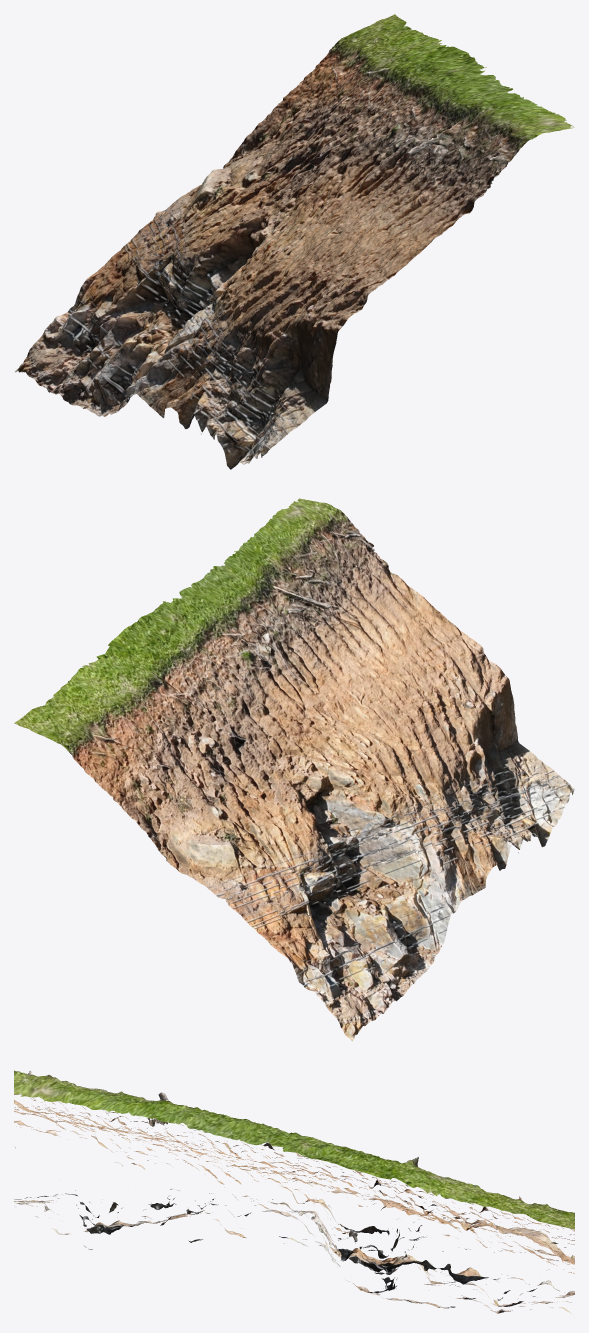
3 renders of one model, top to bottom at view 1: azimuth 30°, elevation 25°; view 2: azimuth 150°, elevation 25°; view 3: azimuth 270°, elevation 25°, orthographic. The views are drawn at different scales.
Size of the model in its own units: 6.7 by 5.97 by 7.63.
3 materials, 3 textured.
